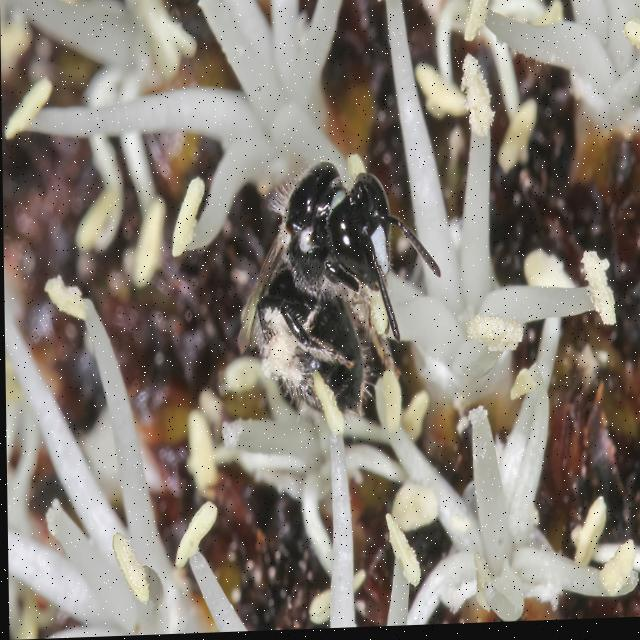Braunsapis: (238, 138, 432, 455)
